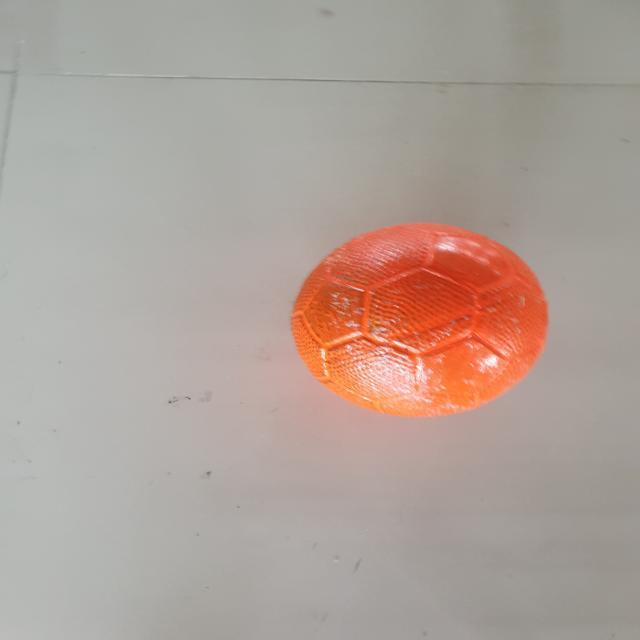bola: (272, 212, 560, 431)
